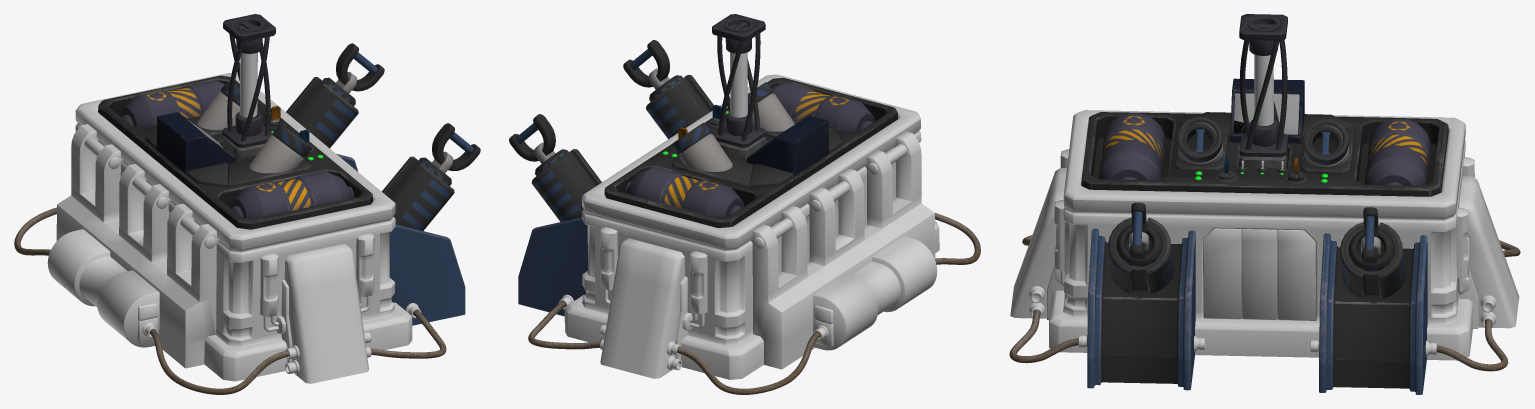
The model's file is MAQUINAVR3.fbx.
3 views of the same model, side by side, from view 1: azimuth 30°, elevation 25°; view 2: azimuth 150°, elevation 25°; view 3: azimuth 270°, elevation 25° (orthographic). The views are drawn at different scales.
Parts seen in each view (by area): view 1: mesh_991, mesh_752, mesh_876, mesh_993, mesh_654, mesh_883, mesh_781; view 2: mesh_991, mesh_752, mesh_876, mesh_993, mesh_654, mesh_883, mesh_781; view 3: mesh_752, mesh_991, mesh_993, mesh_654, mesh_883, mesh_975, mesh_781, mesh_999, mesh_884.
Part boxes in pixels (x1,y1,x2,y2): mesh_991: (47, 73, 421, 383); mesh_752: (14, 75, 465, 394); mesh_876: (56, 124, 218, 368); mesh_993: (222, 14, 275, 159); mesh_654: (322, 43, 384, 106); mesh_883: (418, 123, 480, 185); mesh_781: (239, 52, 257, 117); mesh_991: (558, 74, 939, 379); mesh_752: (518, 75, 980, 394); mesh_876: (751, 131, 935, 369); mesh_993: (712, 14, 766, 159); mesh_654: (509, 114, 568, 175); mesh_883: (623, 40, 682, 101); mesh_781: (730, 52, 747, 117); mesh_752: (1009, 78, 1520, 394); mesh_991: (1010, 110, 1519, 360); mesh_993: (1239, 14, 1287, 167); mesh_654: (1349, 207, 1393, 271); mesh_883: (1117, 202, 1161, 266); mesh_975: (1233, 93, 1299, 134); mesh_781: (1254, 54, 1273, 125); mesh_999: (1308, 126, 1342, 155); mesh_884: (1182, 124, 1216, 153).
Size of the model in its own units: 187 by 139 by 218.
